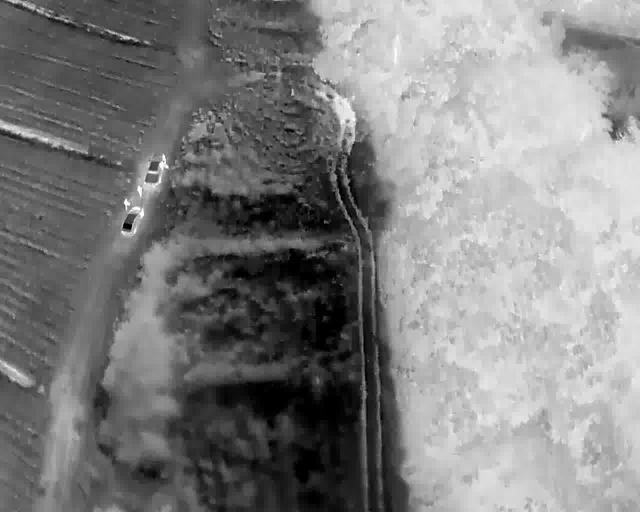car: (129, 138, 151, 164), (150, 98, 174, 120)
person: (146, 123, 151, 135), (129, 140, 133, 150), (168, 92, 172, 102)
